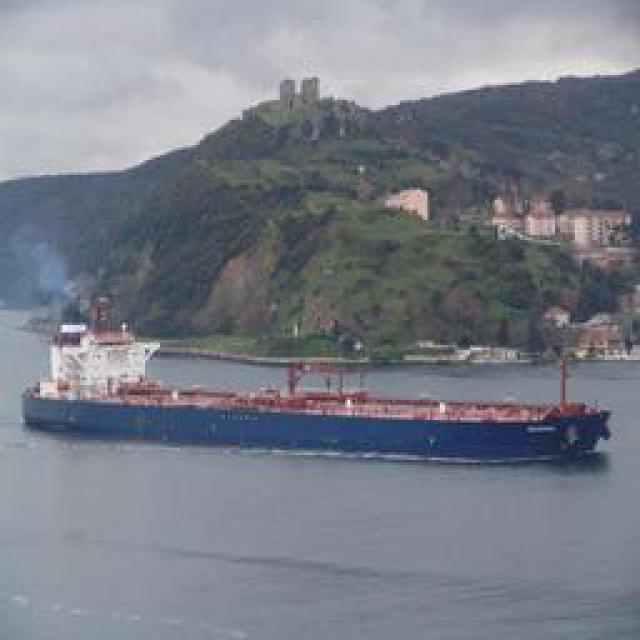Ship: (40, 304, 615, 459)
